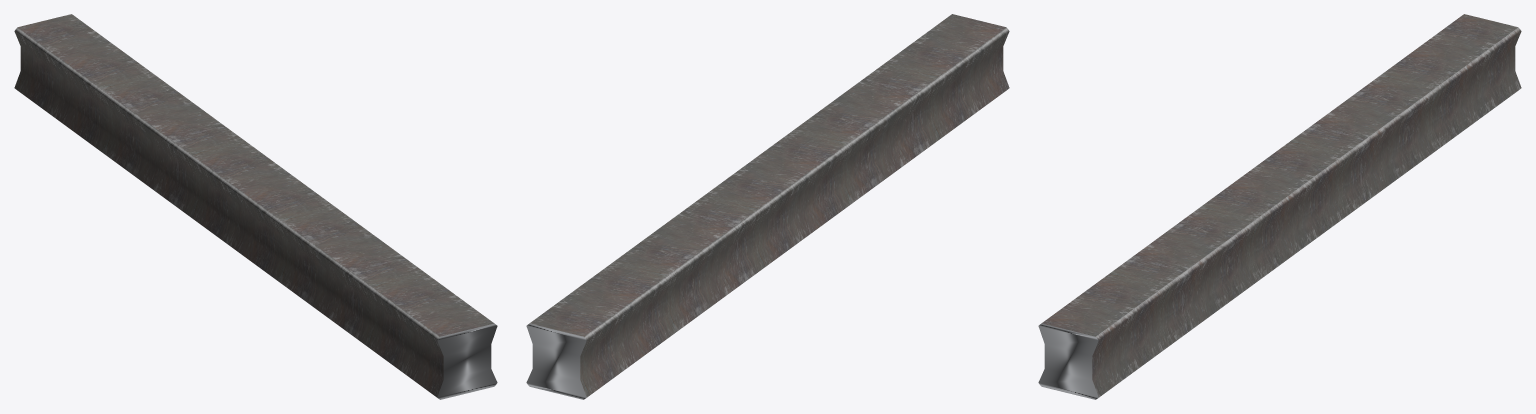
Rendered from support.obj.
3 views of the same model, side by side, from view 1: azimuth 30°, elevation 25°; view 2: azimuth 150°, elevation 25°; view 3: azimuth 330°, elevation 25° (orthographic).
Parts seen in each view (by area): view 1: support; view 2: support; view 3: support.
Part boxes in pixels (x1,y1,x2,y2): support: (14,14,497,399); support: (526,14,1009,399); support: (1038,14,1521,399).
Bounding box in the file's own units: 1 × 1 × 12.12.
Materials: 1 (1 with a texture image).
